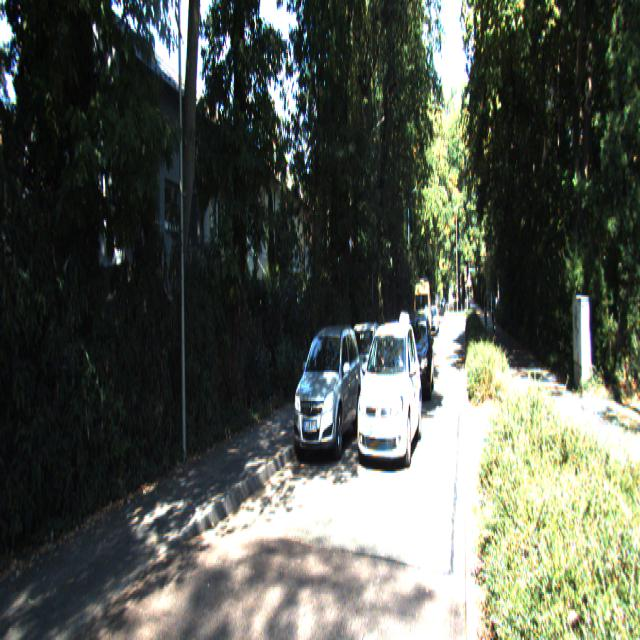Car: (354, 320, 424, 479), (290, 321, 360, 469), (334, 318, 386, 418), (400, 312, 434, 404), (376, 315, 404, 381), (413, 276, 432, 345), (405, 308, 423, 356)
